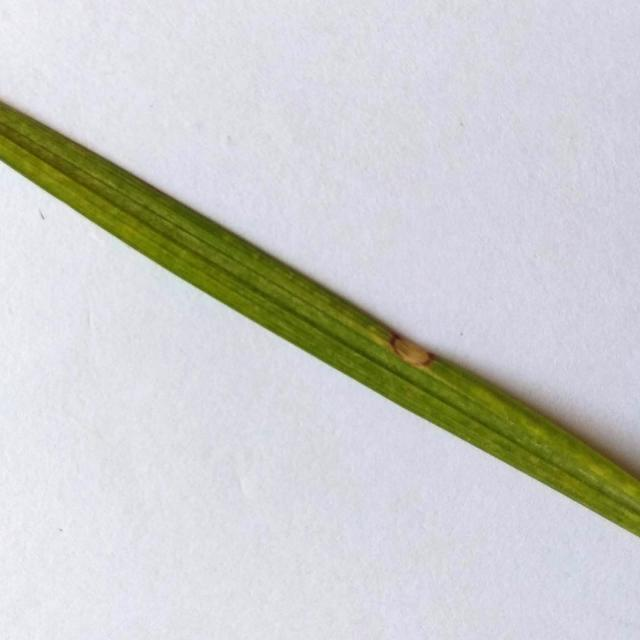Leaf_Blast: (358, 310, 468, 400)
